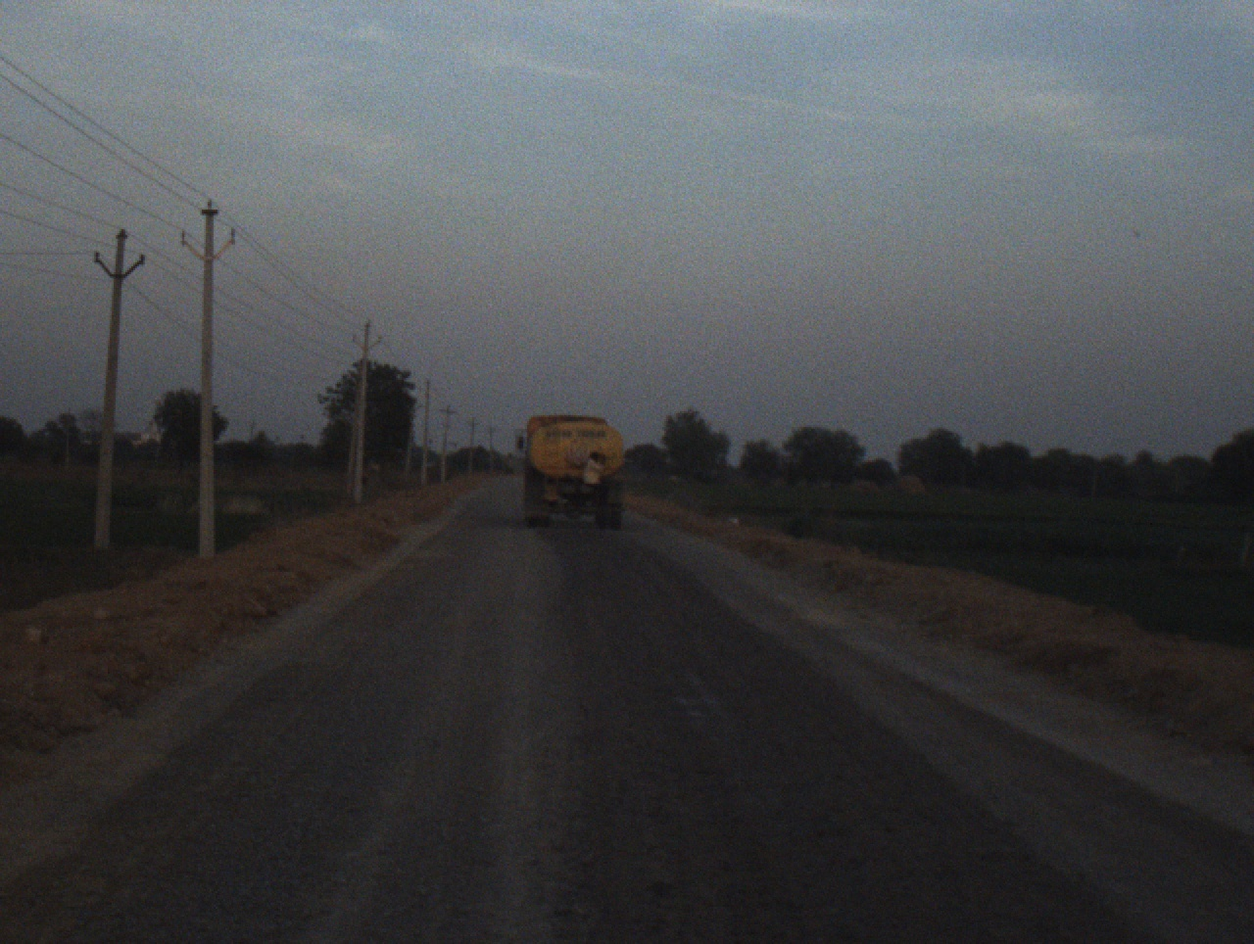rider: (583, 452, 610, 497)
truck: (515, 407, 631, 535)
